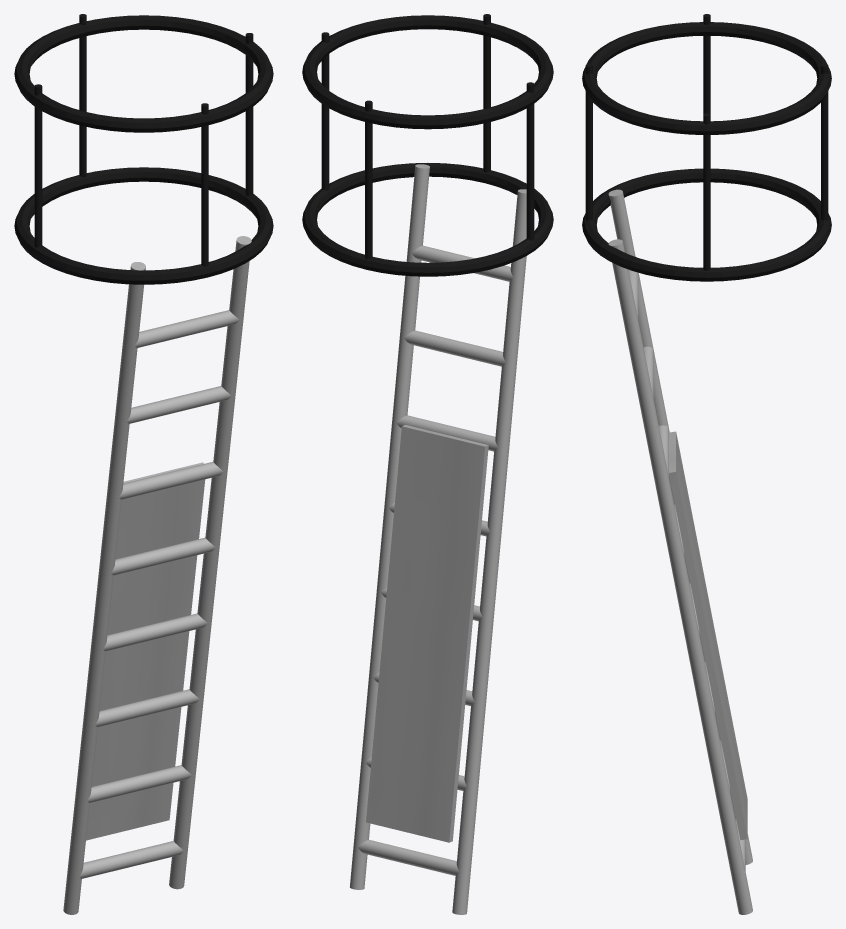
File: signal_ladder_blocked.obj
3 renders of one model, left to right at view 1: azimuth 30°, elevation 25°; view 2: azimuth 150°, elevation 25°; view 3: azimuth 270°, elevation 25°, orthographic. The views are drawn at different scales.
Visible parts, largest first — view 1: cylinder, cube, torus; view 2: cube, cylinder, torus; view 3: cylinder, torus, cube.
Part boxes in pixels (<box>): cylinder: <box>34,14,253,914</box>; cube: <box>86,462,205,840</box>; torus: <box>14,15,273,284</box>; cube: <box>366,425,488,842</box>; cylinder: <box>321,14,534,914</box>; torus: <box>302,15,553,276</box>; cylinder: <box>585,14,828,914</box>; torus: <box>582,22,831,281</box>; cube: <box>669,431,747,840</box>.
Size of the model in its own units: 1.06 by 3.86 by 1.06.
2 materials, 2 textured.
